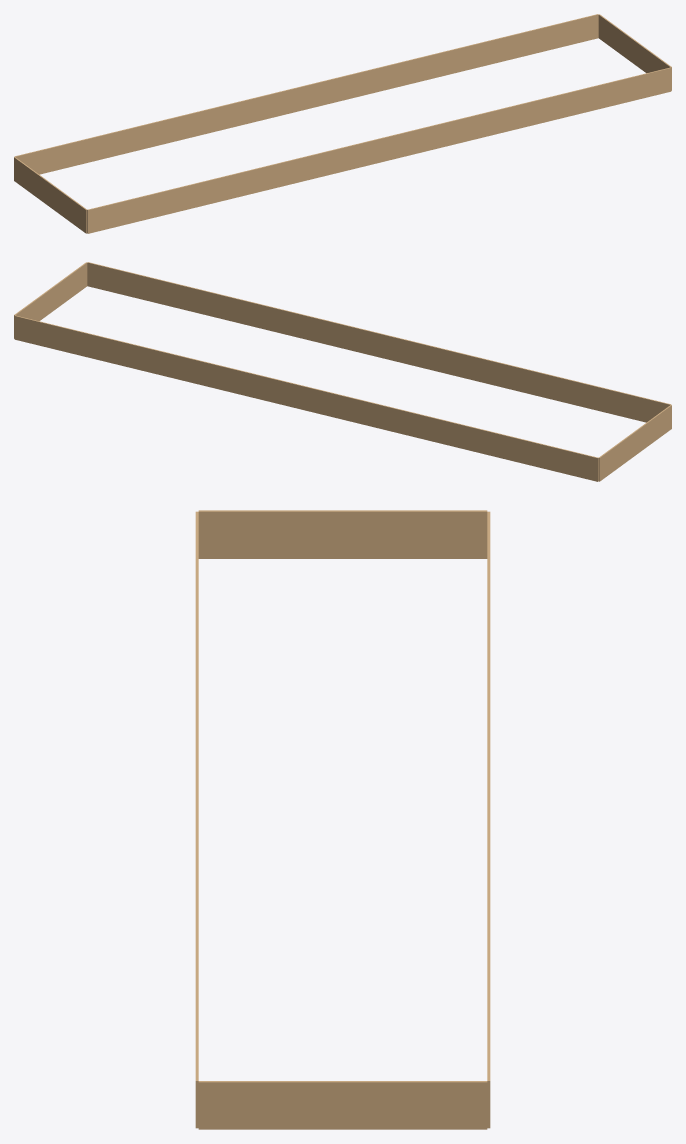
The picture shows the model from 3 angles, top to bottom: view 1: azimuth 30°, elevation 25°; view 2: azimuth 150°, elevation 25°; view 3: azimuth 270°, elevation 25°; orthographic projection. The views are drawn at different scales.
Visible parts, largest first — view 1: form_7; view 2: form_7; view 3: form_7.
Part boxes in pixels (x1=…): form_7: x1=14, y1=14, x2=671, y2=233; form_7: x1=14, y1=262, x2=671, y2=481; form_7: x1=195, y1=510, x2=490, y2=1129.
Bounding box in the file's own units: 23.9 × 0.9235 × 5.2.
